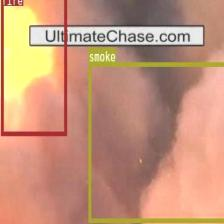fire: (0, 0, 66, 135)
smoke: (88, 62, 224, 222)
